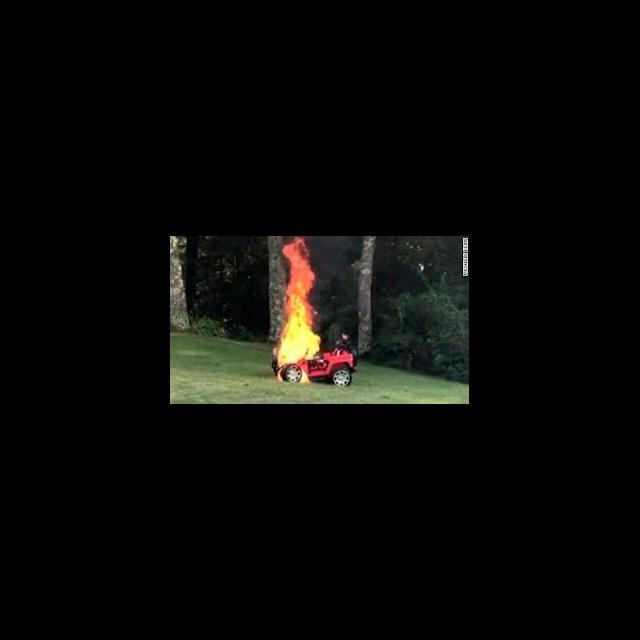Fire: (272, 236, 321, 388)
Smoke: (322, 237, 350, 347)
